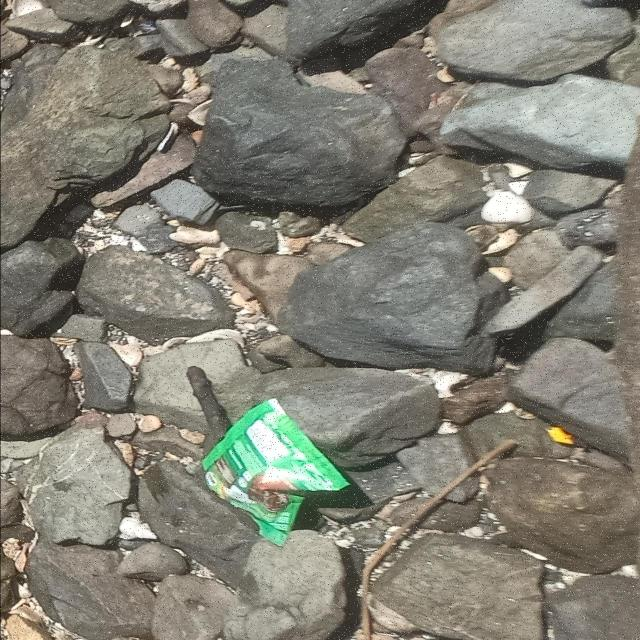plastic_waste: (202, 398, 353, 549)
